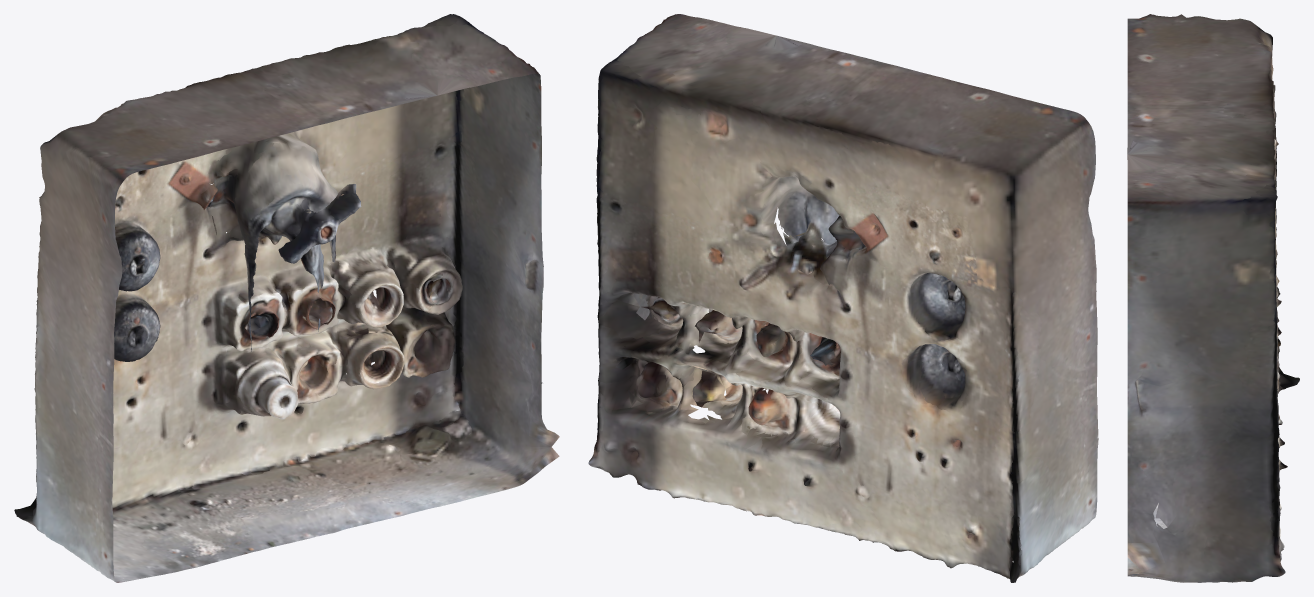
The model's file is burned_soviet_fuse_box.glb.
The picture shows the model from 3 angles, left to right: view 1: azimuth 30°, elevation 25°; view 2: azimuth 150°, elevation 25°; view 3: azimuth 270°, elevation 25°; orthographic projection. The views are drawn at different scales.
Parts seen in each view (by area): view 1: mesh_main_0 (×2); view 2: mesh_main_0 (×2); view 3: mesh_main_0 (×2).
Boxes of the visible parts, bbox=[...] form: mesh_main_0 (×2): bbox=[14, 14, 559, 582]; mesh_main_0 (×2): bbox=[588, 14, 1098, 582]; mesh_main_0 (×2): bbox=[1127, 14, 1299, 582].
Bounding box in the file's own units: 0.4326 × 0.3781 × 0.153.
1 material, 1 textured.
